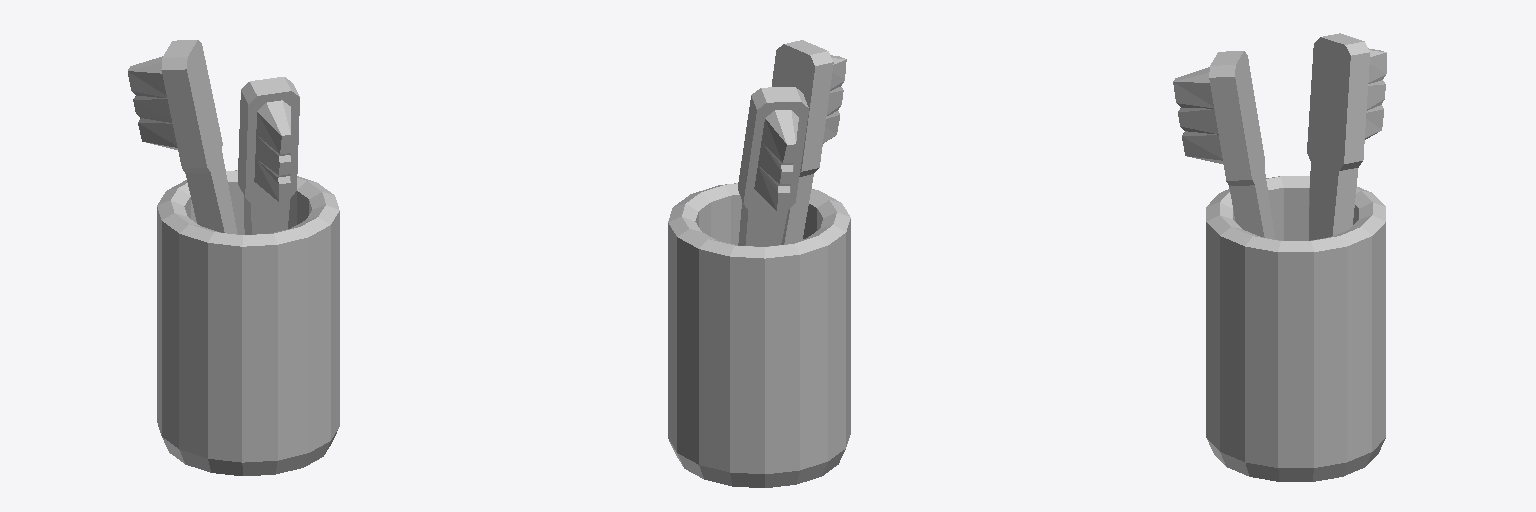
File: toothbrush_cup_decorated.obj
3 renders of one model, left to right at view 1: azimuth 30°, elevation 25°; view 2: azimuth 150°, elevation 25°; view 3: azimuth 270°, elevation 25°, orthographic.
Parts seen in each view (by area): view 1: toothbrush_cup_decorated; view 2: toothbrush_cup_decorated; view 3: toothbrush_cup_decorated.
Boxes of the visible parts, <box> form: toothbrush_cup_decorated: <box>128,40,339,475</box>; toothbrush_cup_decorated: <box>668,40,850,487</box>; toothbrush_cup_decorated: <box>1173,33,1386,481</box>.
Size of the model in its own units: 0.2897 by 0.7016 by 0.3425.